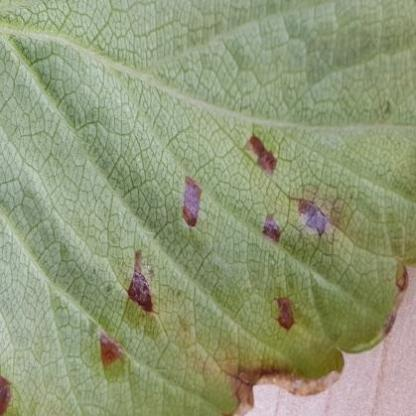Strawberry_Angular_LeafSpot: (0, 132, 411, 415)
